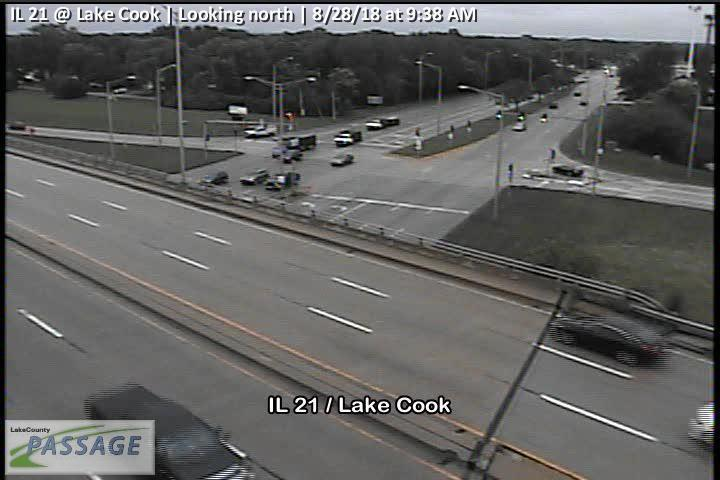SUV: (86, 384, 256, 480), (200, 169, 228, 185)
Sedan: (549, 311, 668, 366), (239, 168, 269, 185), (552, 163, 584, 177), (329, 153, 355, 166)
Truck: (273, 132, 317, 157), (333, 128, 362, 147), (364, 116, 400, 130)
